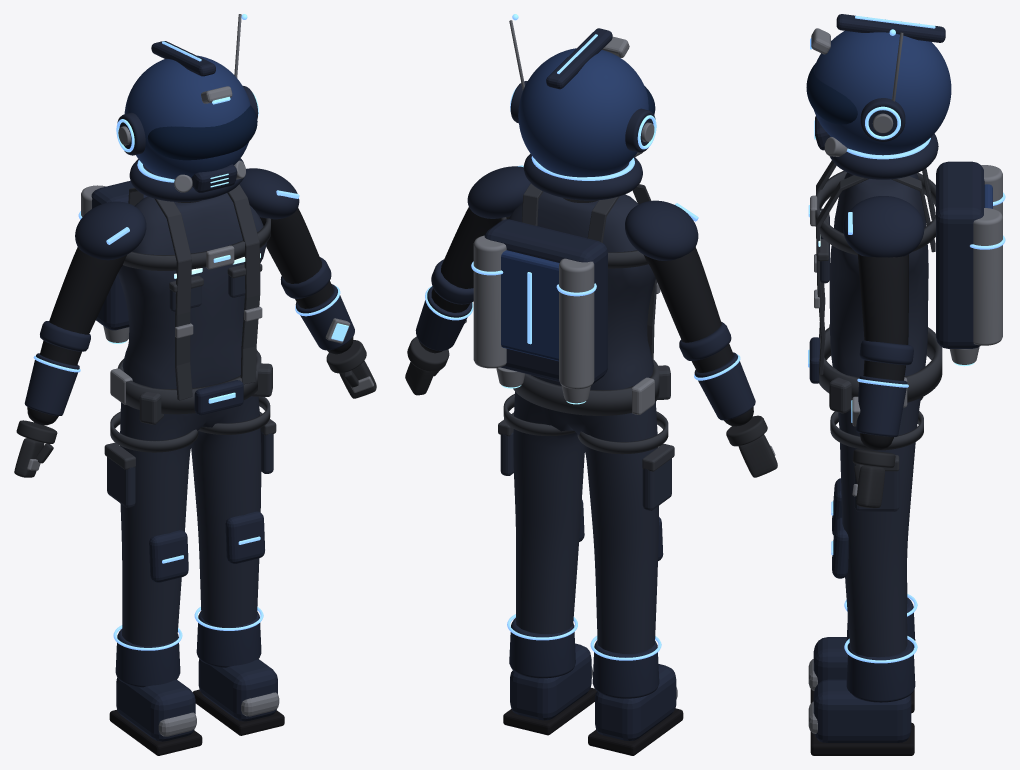
File: void-pionier.glb
3 renders of one model, left to right at view 1: azimuth 30°, elevation 25°; view 2: azimuth 150°, elevation 25°; view 3: azimuth 270°, elevation 25°, orthographic. The views are drawn at different scales.
Parts seen in each view (by area): view 1: Overall, Helm, Arm_R, Arm_L, Visier, Tragegurt.001, Stiefel.001, Stiefel, Schulterpanzer.001, Tragegurt, Stiefelschaft.001, Stiefelschaft (+26 smaller); view 2: Overall, Helm, Rucksack, Rucksack_Deckel, Arm_R, Tank.001, Tank, Stiefel.001, Schulterpanzer.001, Stiefel, Stiefelschaft.001, Guertel (+23 smaller); view 3: Overall, Helm, Rucksack, Arm_L, Stiefel, Schulterpanzer, Tank, Stiefelschaft, Unterarmschutz, Helmkragen, Guertel, Tragegurt (+22 smaller).
Part boxes in pixels (<box>): Overall: <box>117,193,266,646</box>; Helm: <box>124,55,250,179</box>; Arm_R: <box>27,247,126,425</box>; Arm_L: <box>260,208,353,354</box>; Visier: <box>147,105,257,160</box>; Tragegurt.001: <box>128,187,192,400</box>; Stiefel.001: <box>116,677,195,741</box>; Stiefel: <box>198,659,277,721</box>; Schulterpanzer.001: <box>75,201,146,260</box>; Tragegurt: <box>227,184,260,384</box>; Stiefelschaft.001: <box>115,629,180,687</box>; Stiefelschaft: <box>196,611,261,667</box>; Overall: <box>509,191,658,653</box>; Helm: <box>518,48,648,177</box>; Rucksack: <box>484,219,607,384</box>; Rucksack_Deckel: <box>501,250,559,361</box>; Arm_R: <box>644,247,753,426</box>; Tank.001: <box>559,258,594,389</box>; Tank: <box>473,235,506,368</box>; Stiefel.001: <box>595,664,676,740</box>; Schulterpanzer.001: <box>625,200,698,260</box>; Stiefel: <box>510,643,591,720</box>; Stiefelschaft.001: <box>592,640,659,698</box>; Guertel: <box>513,358,659,415</box>; Overall: <box>829,172,928,657</box>; Helm: <box>813,31,951,154</box>; Rucksack: <box>936,161,984,348</box>; Arm_L: <box>857,254,908,449</box>; Stiefel: <box>813,679,911,742</box>; Schulterpanzer: <box>843,196,924,257</box>; Tank: <box>973,208,1002,345</box>; Stiefelschaft: <box>846,639,915,702</box>; Unterarmschutz: <box>856,375,907,436</box>; Helmkragen: <box>829,134,938,179</box>; Guertel: <box>819,327,942,402</box>; Tragegurt: <box>816,175,935,374</box>.
Bounding box in the file's own units: 1.09 × 1.97 × 0.489.
